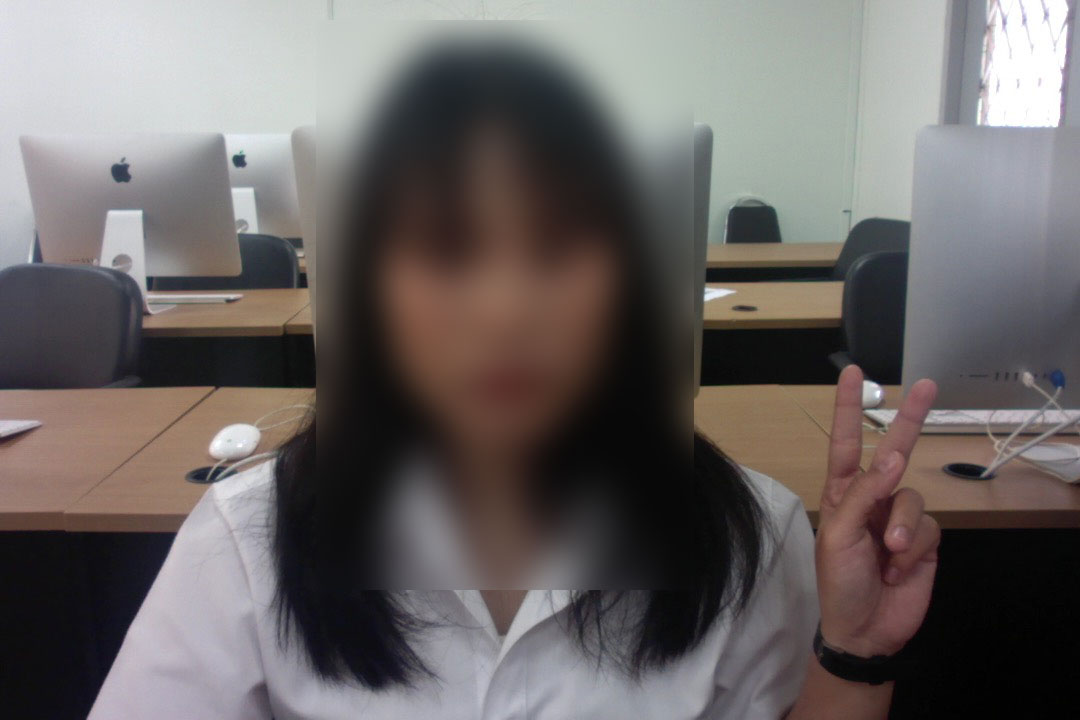ko: (807, 344, 958, 675)
